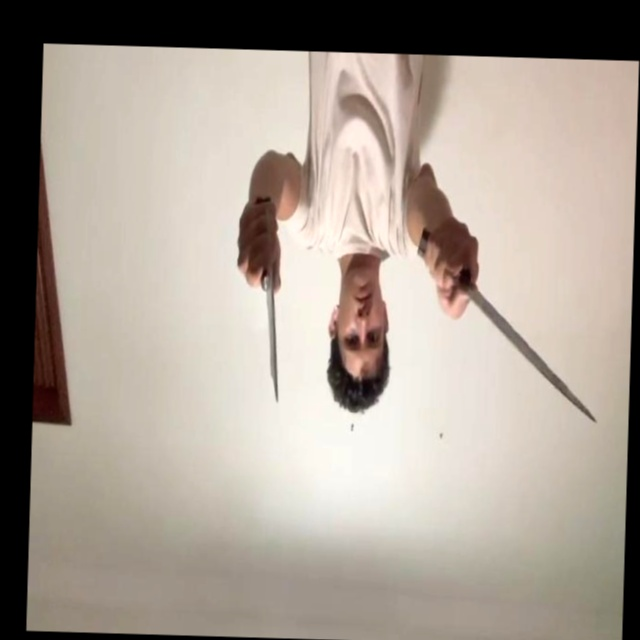Sharp-Object: (463, 285, 600, 423), (259, 275, 282, 401)
